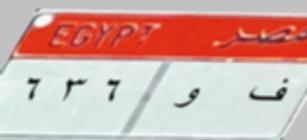3: (57, 72, 92, 105)
6: (97, 75, 132, 105), (20, 72, 48, 104)
faa: (243, 68, 293, 111), (168, 82, 209, 117)
